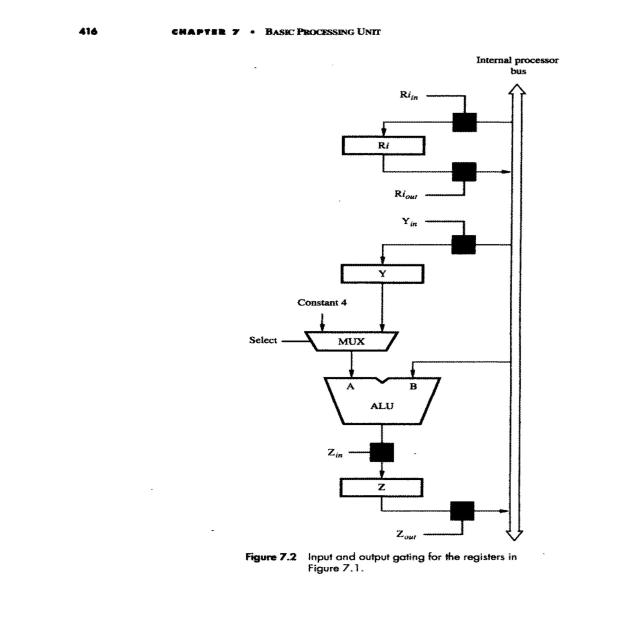diagram: (174, 52, 598, 566)
